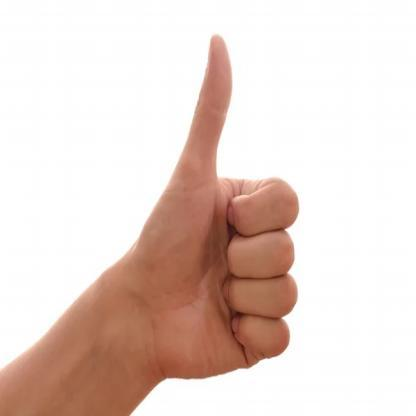thumb_up: (134, 32, 299, 381)
